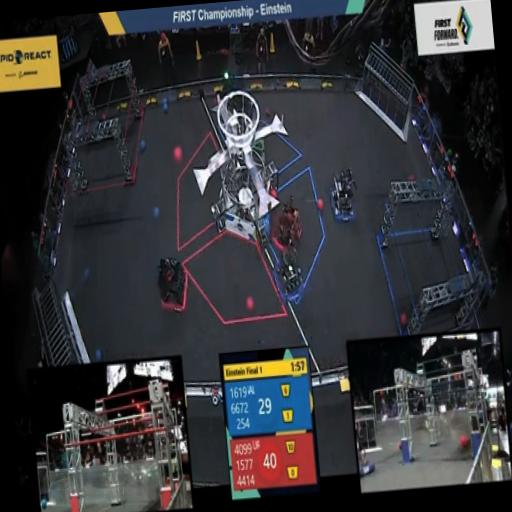robot: (149, 249, 197, 318), (266, 193, 308, 253), (324, 163, 362, 225), (270, 250, 308, 307)
